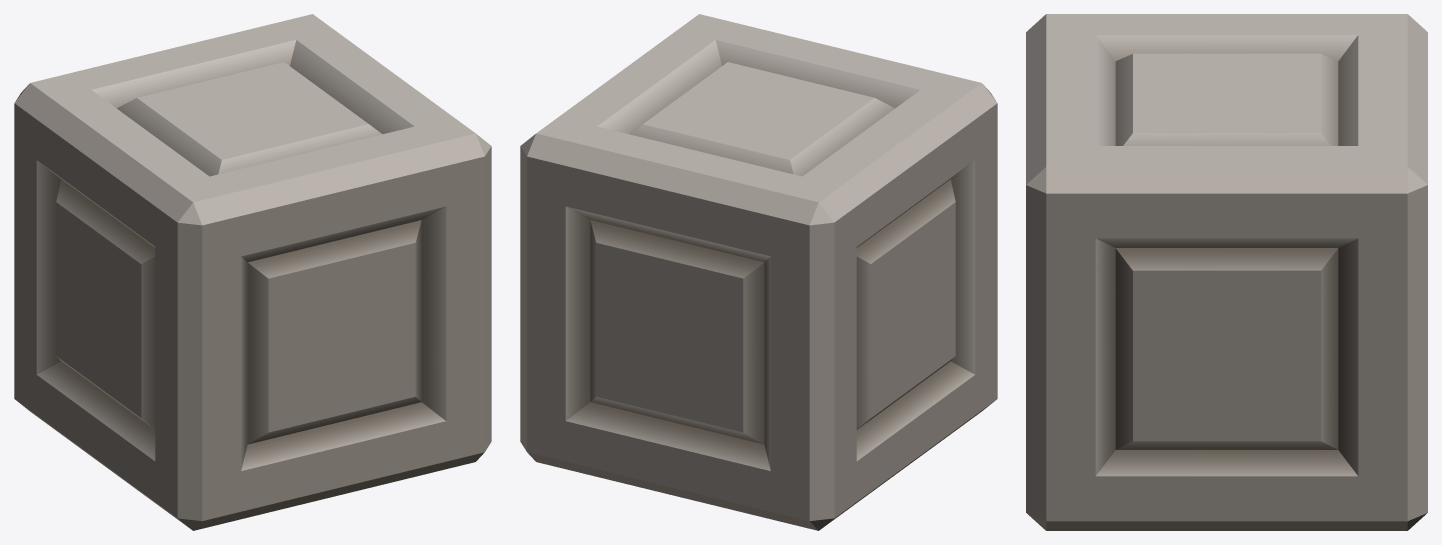
Rendered from m_deco_pillarSquareB.FBX.
The picture shows the model from 3 angles, left to right: view 1: azimuth 30°, elevation 25°; view 2: azimuth 150°, elevation 25°; view 3: azimuth 270°, elevation 25°; orthographic projection. The views are drawn at different scales.
Visible parts, largest first — view 1: m_deco_pillarSquareB; view 2: m_deco_pillarSquareB; view 3: m_deco_pillarSquareB.
Boxes of the visible parts, x1,y1,x2,y2 form: m_deco_pillarSquareB: [14, 14, 491, 530]; m_deco_pillarSquareB: [520, 14, 997, 530]; m_deco_pillarSquareB: [1026, 14, 1427, 530].
Bounding box in the file's own units: 2 × 2 × 2.
